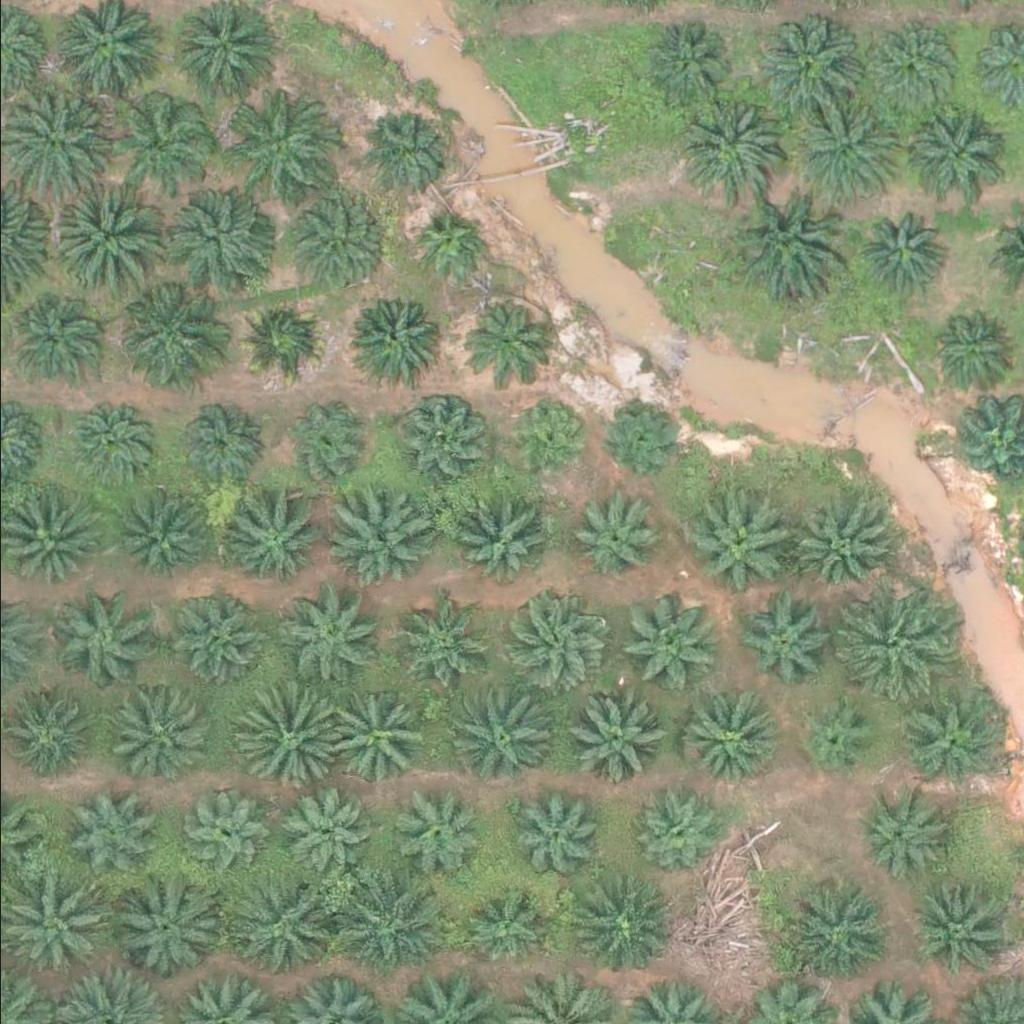Kelapa_Sawit: (833, 587, 947, 700), (229, 870, 342, 983), (329, 871, 442, 984), (54, 183, 167, 296), (169, 184, 282, 297), (729, 185, 842, 298), (229, 681, 343, 793), (110, 280, 223, 392), (792, 88, 905, 200), (898, 692, 999, 792), (906, 878, 1007, 978), (110, 880, 211, 980), (318, 692, 419, 792), (270, 584, 371, 684), (160, 586, 261, 686), (224, 491, 325, 591), (224, 85, 325, 185), (112, 91, 213, 191), (176, 3, 277, 103), (785, 879, 886, 979), (504, 592, 605, 692), (563, 484, 664, 584), (680, 94, 781, 194), (763, 19, 864, 119), (902, 105, 1002, 205), (108, 680, 208, 780), (51, 589, 151, 689), (444, 490, 544, 590), (328, 493, 428, 593), (290, 192, 390, 292), (567, 874, 667, 974), (678, 688, 778, 788), (565, 688, 665, 788), (450, 687, 550, 787), (620, 596, 720, 696), (790, 500, 890, 600), (684, 491, 784, 591), (870, 24, 959, 112), (387, 783, 475, 871), (275, 787, 363, 875), (4, 685, 92, 773), (386, 606, 474, 694), (120, 493, 208, 581), (499, 394, 587, 482), (281, 398, 369, 486), (169, 399, 257, 487), (64, 399, 152, 487), (361, 107, 449, 195), (466, 883, 554, 971), (856, 793, 944, 881), (921, 305, 1009, 392), (178, 789, 266, 876), (59, 790, 147, 877), (398, 396, 486, 483), (457, 298, 545, 385), (352, 294, 440, 381), (234, 294, 322, 381), (13, 291, 101, 378), (512, 790, 600, 877), (635, 787, 723, 874), (735, 597, 823, 684), (598, 396, 686, 483), (852, 211, 940, 298), (645, 20, 733, 107), (407, 210, 483, 285), (798, 701, 874, 776)
